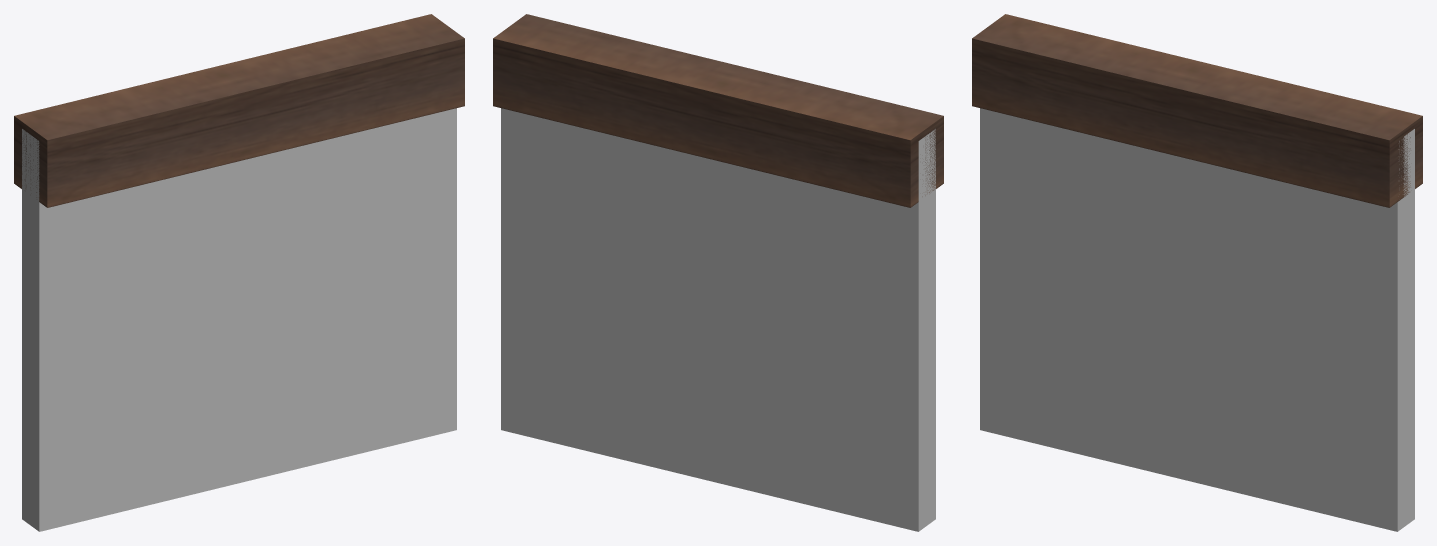
The model's file is jov_lowwall_0t01.fbx.
3 views of the same model, side by side, from view 1: azimuth 30°, elevation 25°; view 2: azimuth 150°, elevation 25°; view 3: azimuth 330°, elevation 25° (orthographic).
Parts seen in each view (by area): view 1: jov_lowwall_0t01; view 2: jov_lowwall_0t01; view 3: jov_lowwall_0t01.
Part boxes in pixels (x1,y1,x2,y2): jov_lowwall_0t01: [14, 14, 464, 531]; jov_lowwall_0t01: [493, 14, 943, 531]; jov_lowwall_0t01: [972, 14, 1422, 531].
Size of the model in its own units: 110 by 100 by 15.26.
